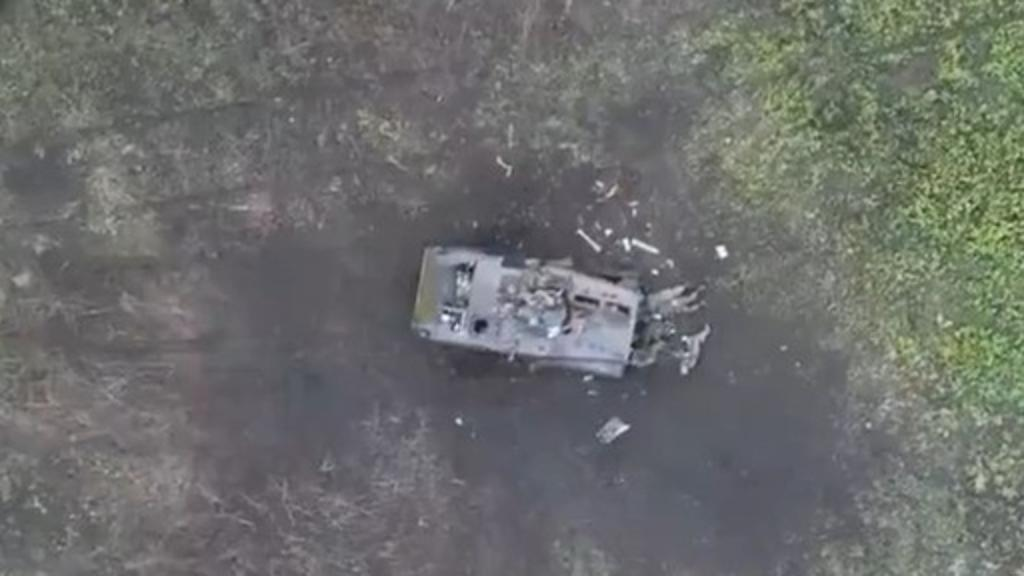APC-IFV: (402, 234, 652, 392)
